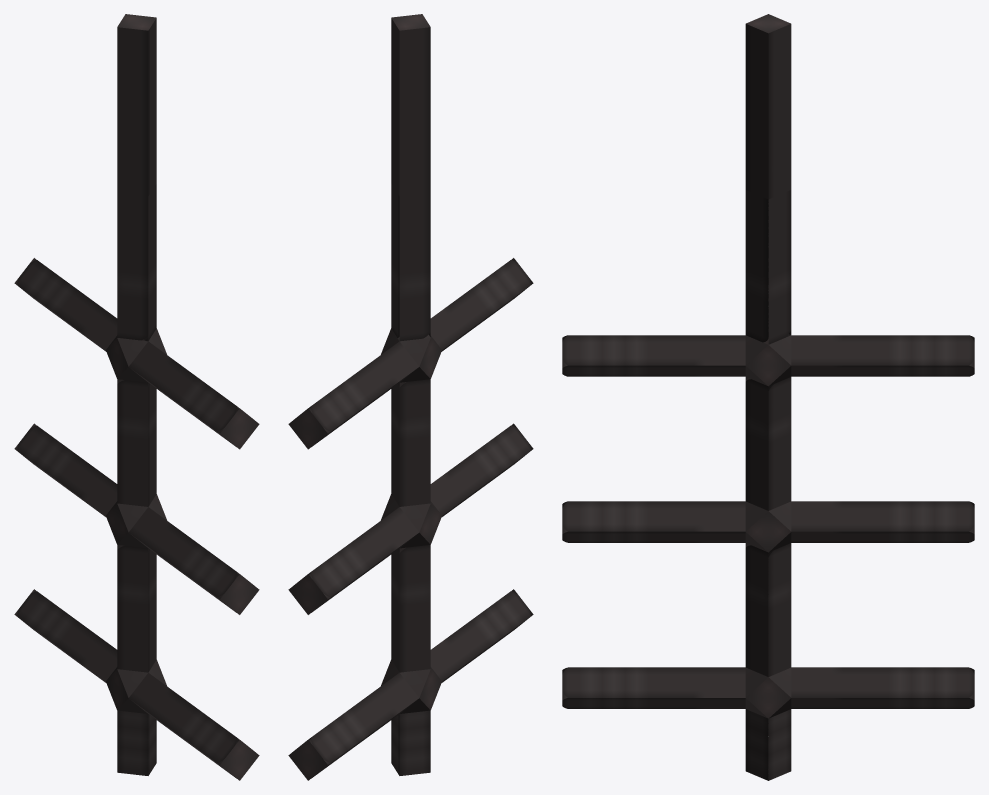
File: Wall_Full_x2_Window_2_Bars.fbx
3 views of the same model, side by side, from view 1: azimuth 30°, elevation 25°; view 2: azimuth 150°, elevation 25°; view 3: azimuth 270°, elevation 25° (orthographic).
Parts seen in each view (by area): view 1: Wall_Full_x2_Window_2_Bars; view 2: Wall_Full_x2_Window_2_Bars; view 3: Wall_Full_x2_Window_2_Bars.
Boxes of the visible parts, x1,y1,x2,y2 form: Wall_Full_x2_Window_2_Bars: (14,14,259,780); Wall_Full_x2_Window_2_Bars: (288,14,533,780); Wall_Full_x2_Window_2_Bars: (562,14,974,780).
Bounding box in the file's own units: 25 × 450 × 225.
1 material, 1 textured.
